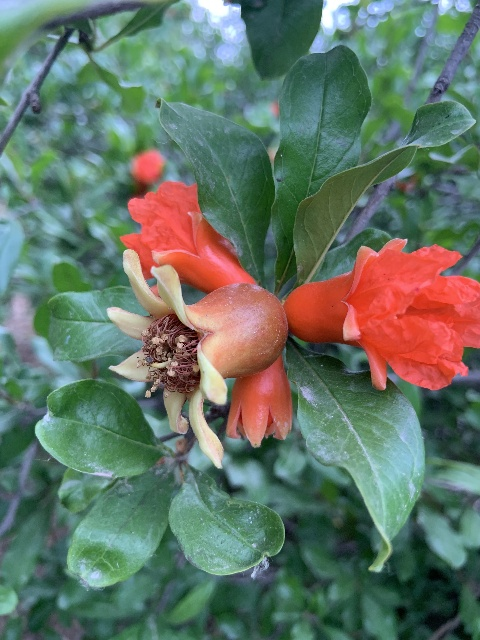early-fruit: (105, 248, 287, 468)
flower: (286, 237, 480, 393), (119, 180, 255, 294), (226, 355, 292, 448)
